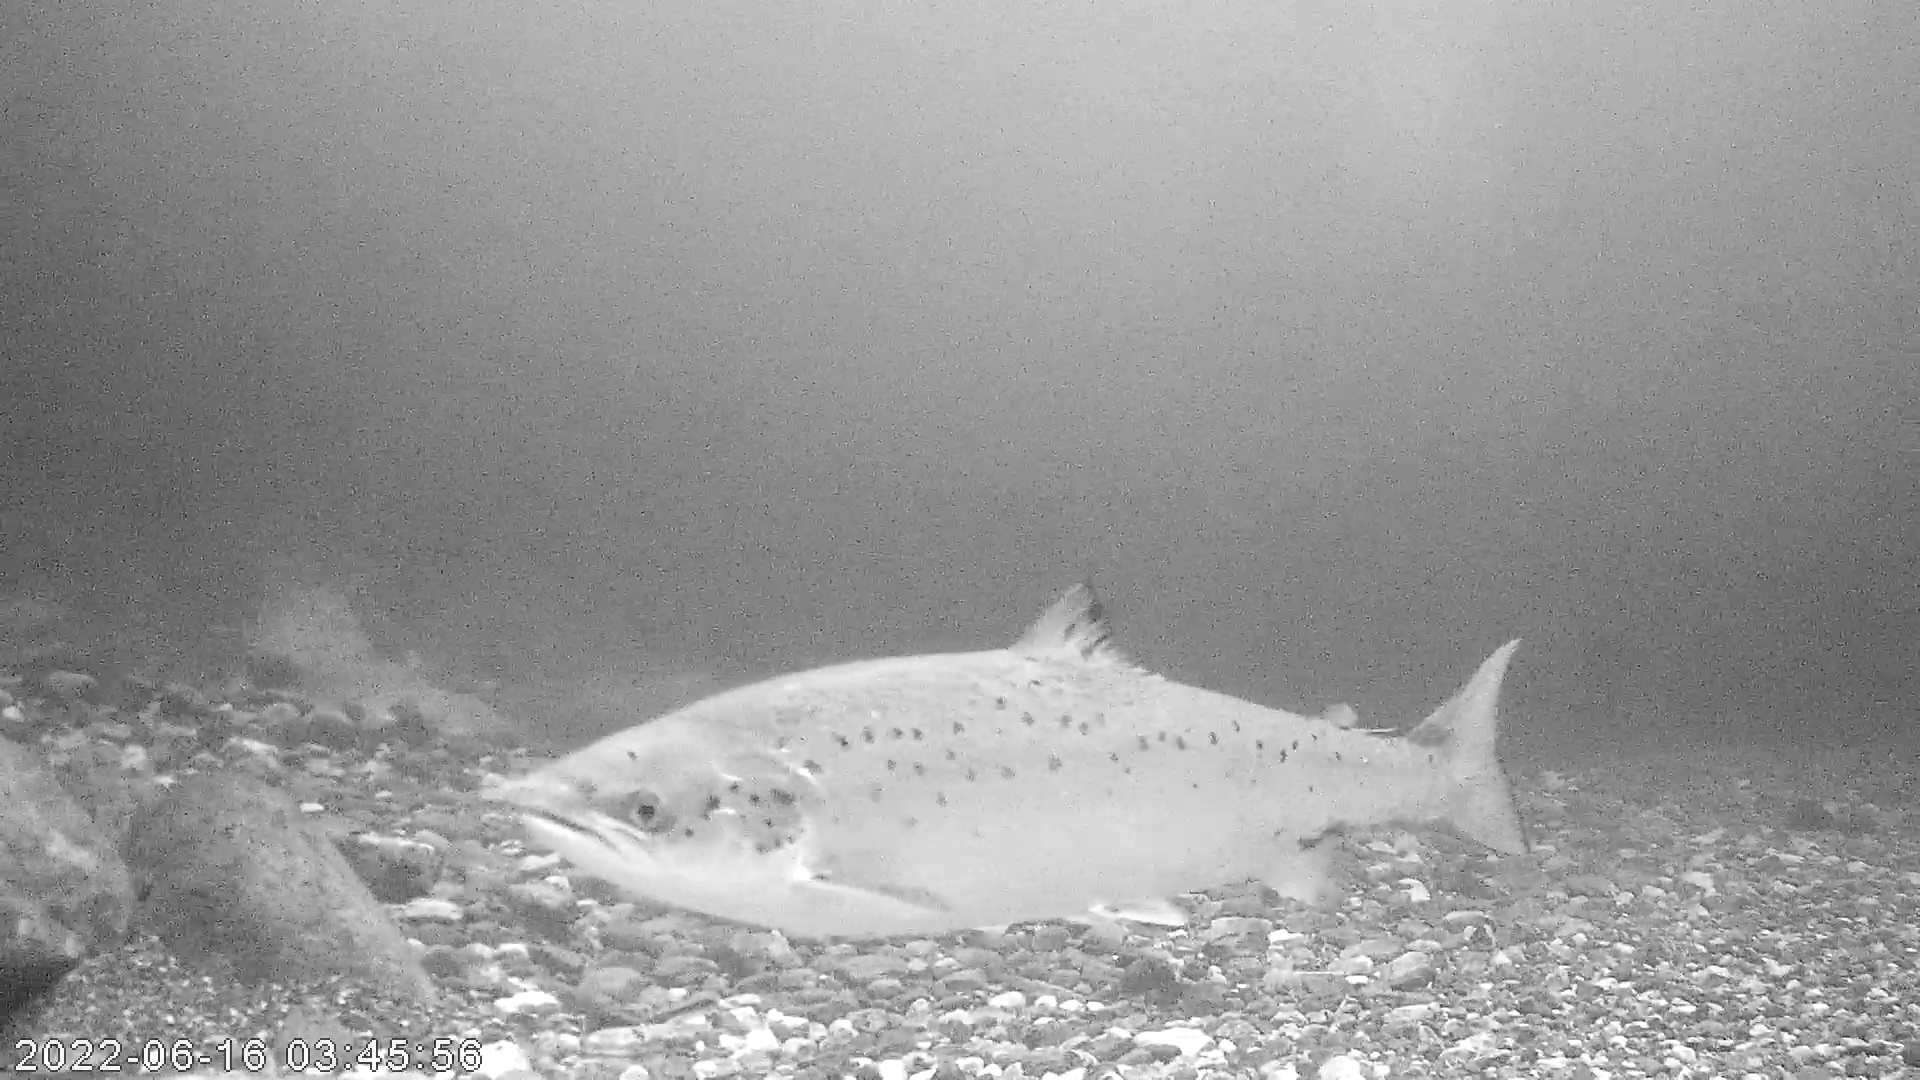salmon: (510, 574, 1534, 943)
